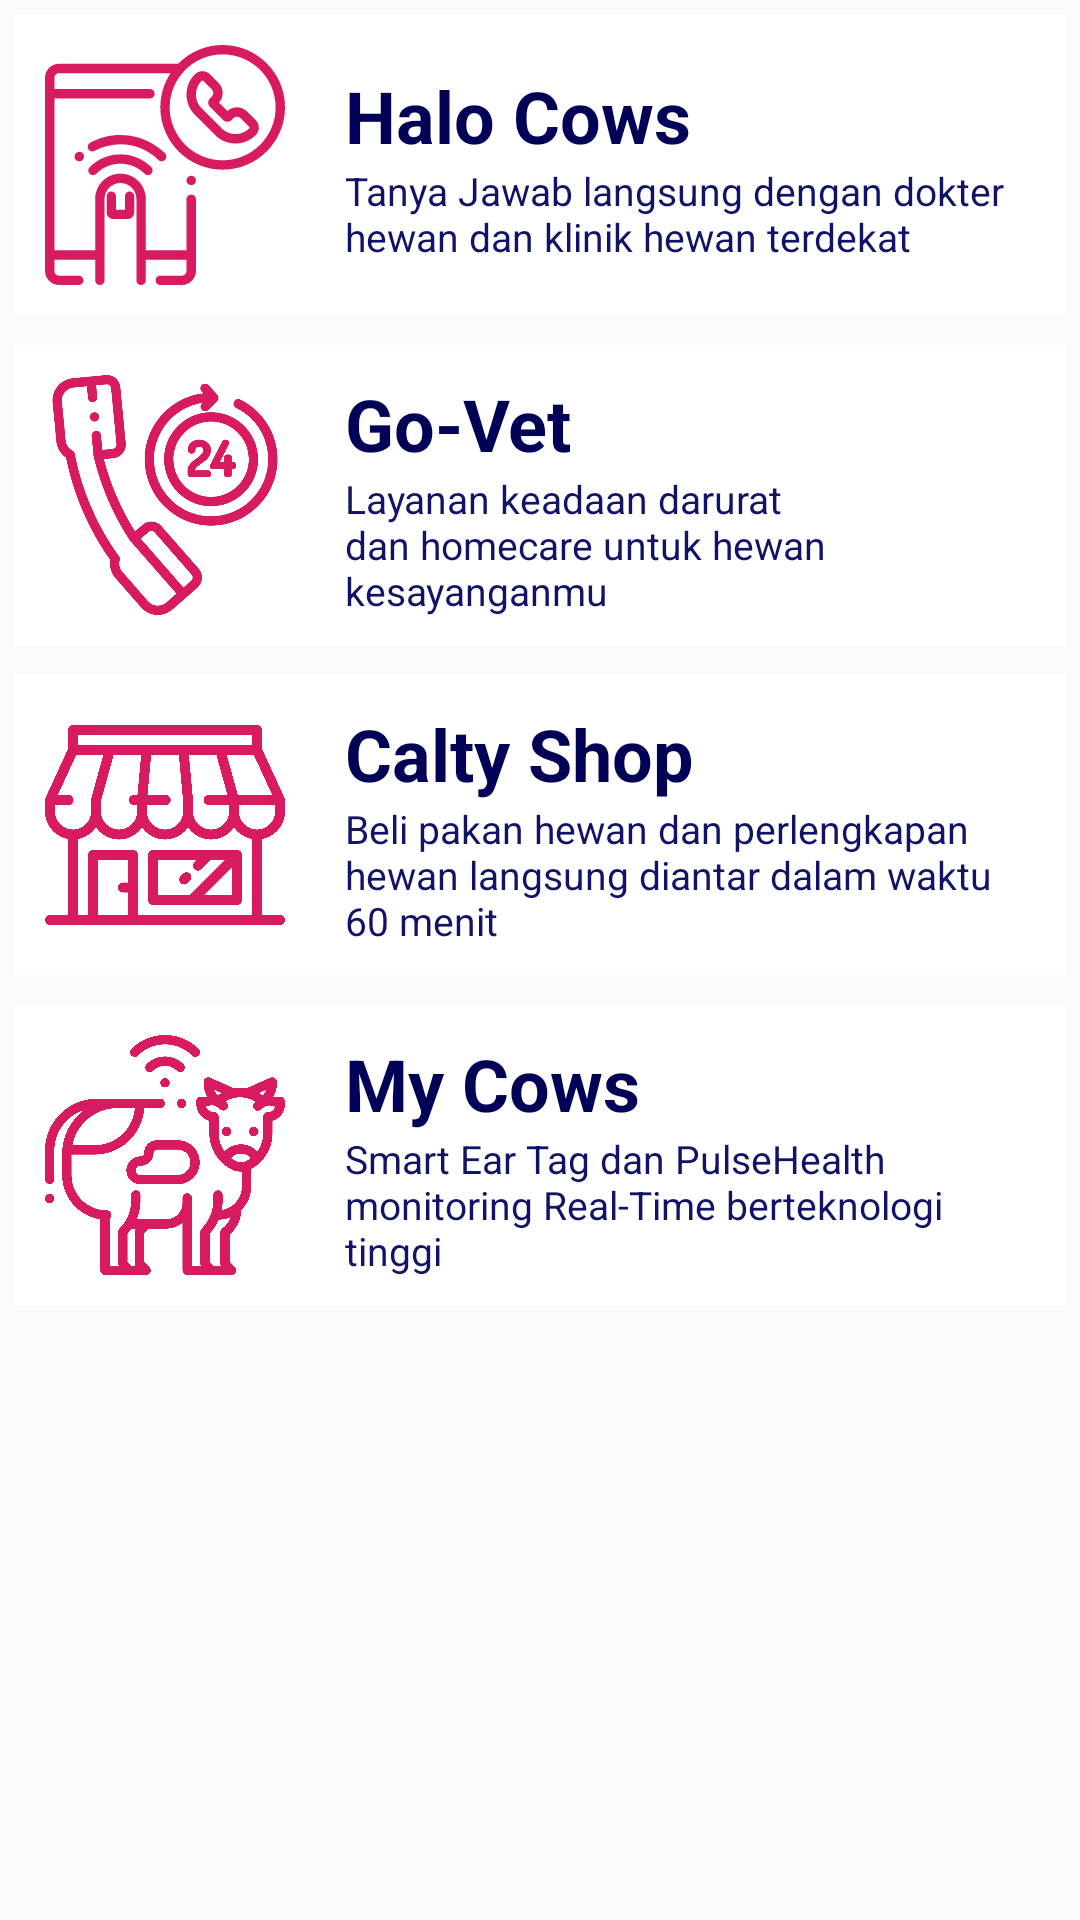

Point at icon controls on the screen. Image size 1080px x 1920px, points as point (x, y).
cattle: point (165, 1155)
touch: point (165, 165)
